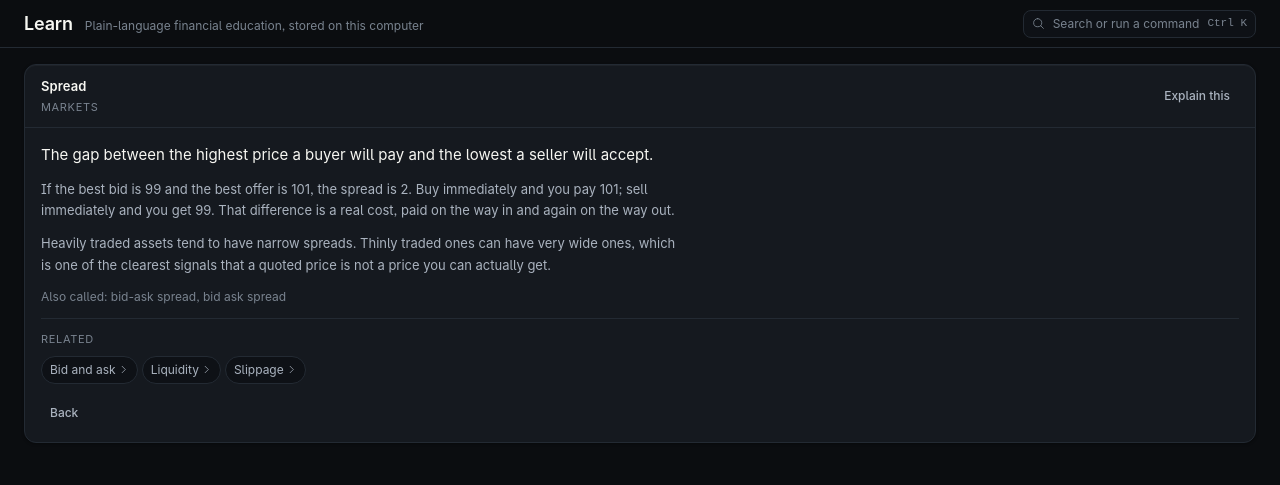
Scenario: Learn — navigation › opens a glossary entry and follows a related term
Expected: the text "The gap between the highest price" is shown, 41,145 -> 653,164
Note: Every entry links onward, so the glossary is browsable rather than a dead end.
What coordinates should you click on to do the following:
click the link "Liquidity"
I would click on:
 (181, 370)
Its box is 142,356 -> 221,384.
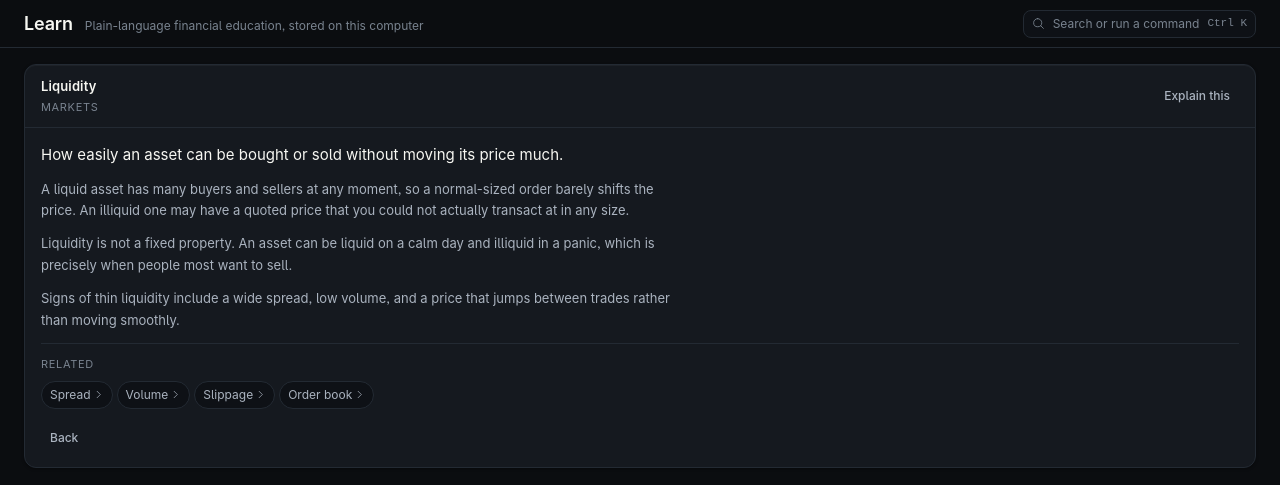
Result: the text "How easily an asset can be bought or sold" is shown at 41,145 -> 563,164
